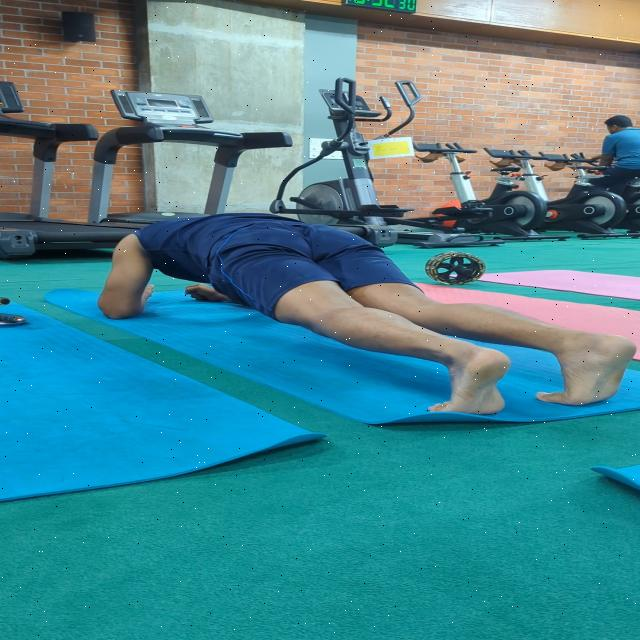Normal_Plunk: (84, 208, 640, 424)
